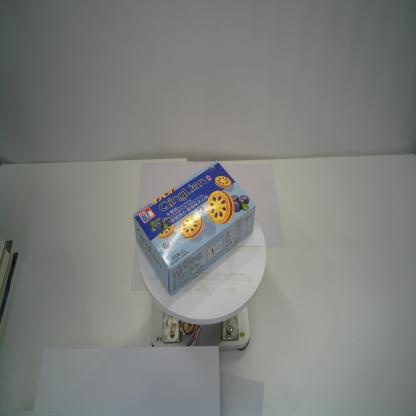Dessert: (132, 160, 256, 297)
